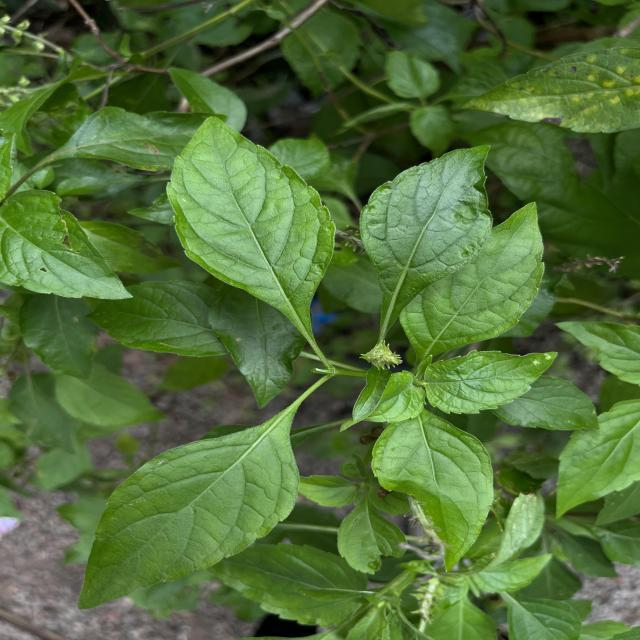Ocimum gratissimum: (75, 401, 302, 614), (161, 109, 340, 365), (360, 140, 496, 335), (396, 196, 546, 368), (368, 414, 497, 578), (0, 187, 136, 301), (38, 102, 234, 176), (418, 346, 562, 416)
